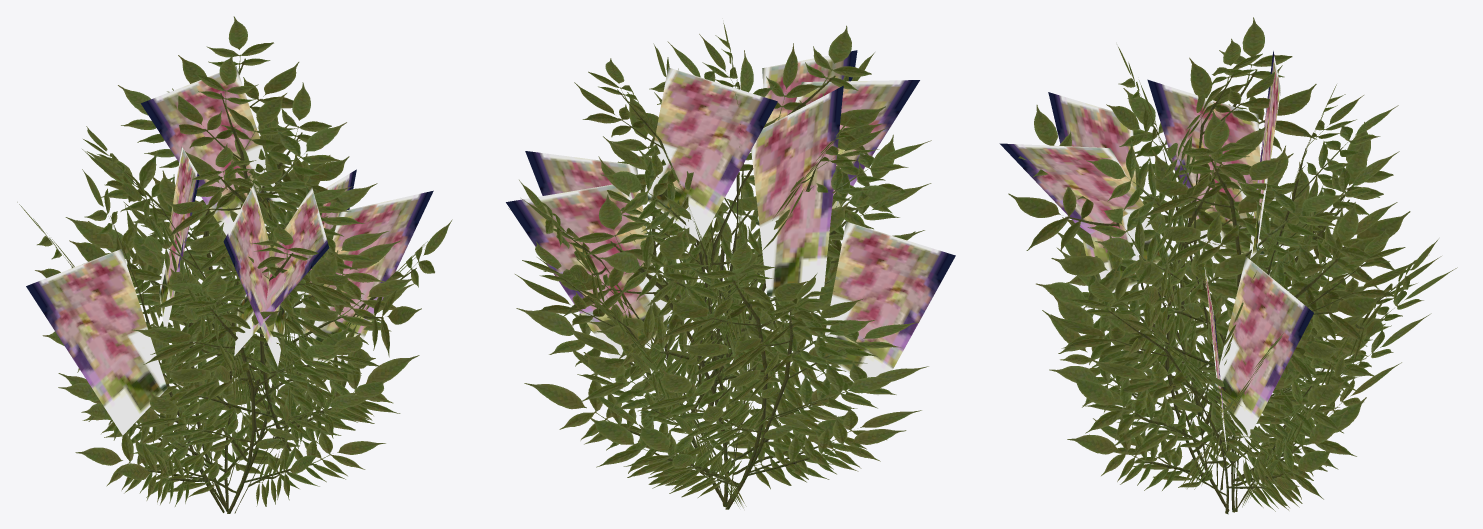
The model's file is flower plant .fbx.
The picture shows the model from 3 angles, left to right: view 1: azimuth 30°, elevation 25°; view 2: azimuth 150°, elevation 25°; view 3: azimuth 270°, elevation 25°; orthographic projection. The views are drawn at different scales.
Visible parts, largest first — view 1: Plant_FlowersRedBush__27_.001; view 2: Plant_FlowersRedBush__27_.001; view 3: Plant_FlowersRedBush__27_.001.
Boxes of the visible parts, x1,y1,x2,y2 form: Plant_FlowersRedBush__27_.001: [17, 16, 452, 513]; Plant_FlowersRedBush__27_.001: [506, 23, 955, 509]; Plant_FlowersRedBush__27_.001: [999, 17, 1457, 514].
Bounding box in the file's own units: 123 × 129 × 116.
Materials: 2 (2 with a texture image).
